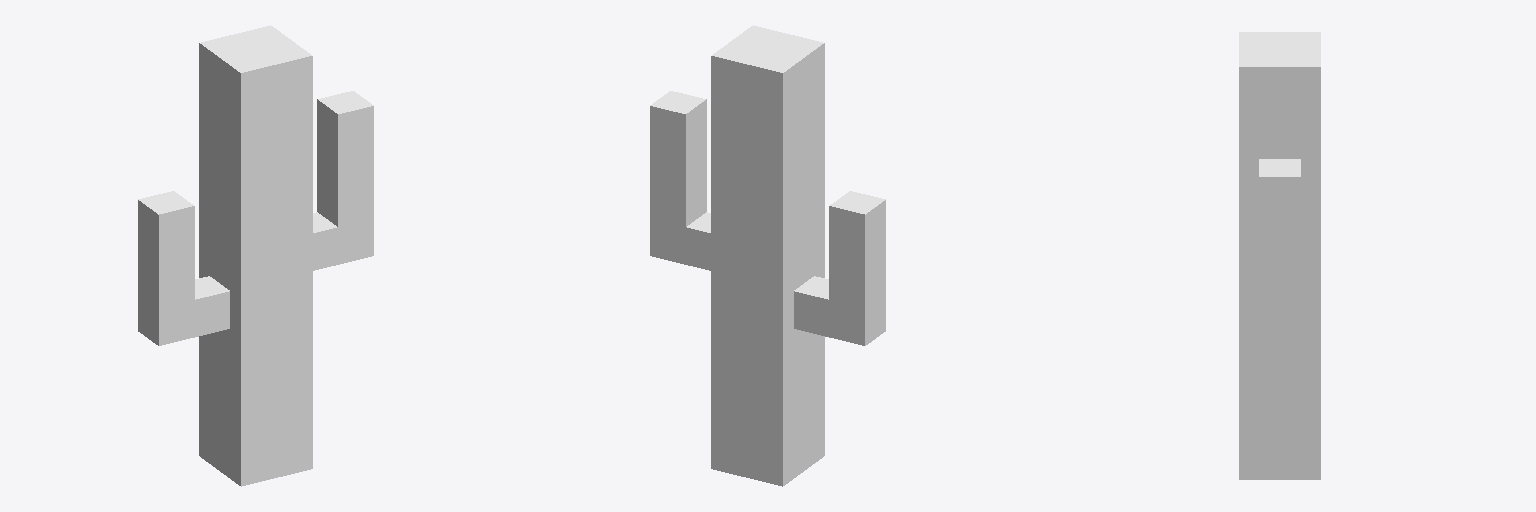
The model's file is pystinyakaktys3.obj.
3 renders of one model, left to right at view 1: azimuth 30°, elevation 25°; view 2: azimuth 150°, elevation 25°; view 3: azimuth 270°, elevation 25°, orthographic.
Parts seen in each view (by area): view 1: object 1; view 2: object 1; view 3: object 1.
Part boxes in pixels (bbox=[...]): object 1: bbox=[138, 25, 373, 486]; object 1: bbox=[650, 25, 885, 486]; object 1: bbox=[1239, 32, 1320, 479].
Bounding box in the file's own units: 1.2 × 2.2 × 0.4.